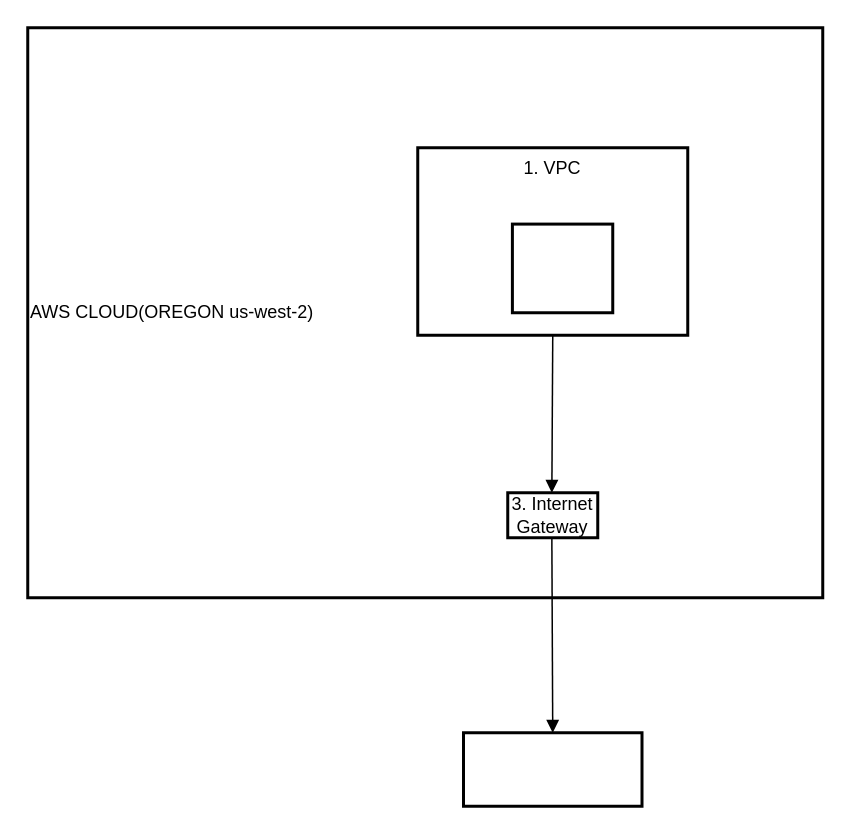
The diagram is 849 pixels wide and 833 high, and some of its shapes have lost their labels. Each missing label, with the centre of its shape:
"2. PUBLIC SUBNET" belongs at point 562,268.
"Internet" belongs at point 552,768.
